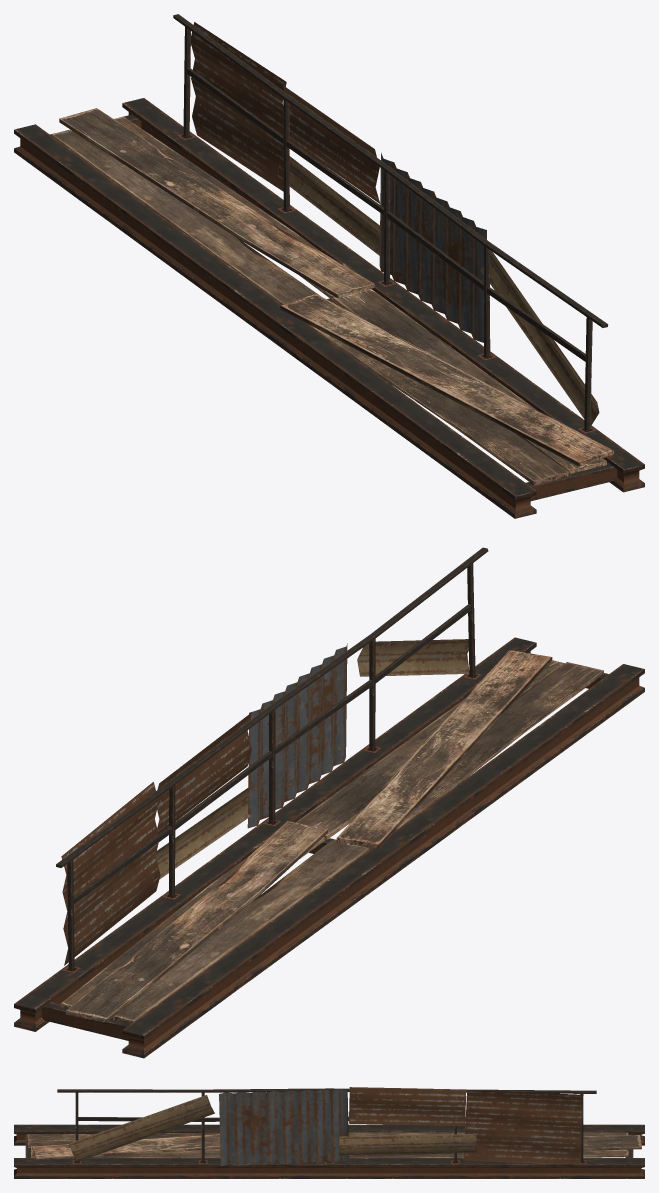
Rendered from spheretank_walkway_c.glb.
The picture shows the model from 3 angles, top to bottom: view 1: azimuth 30°, elevation 25°; view 2: azimuth 150°, elevation 25°; view 3: azimuth 270°, elevation 25°; orthographic projection. The views are drawn at different scales.
Visible parts, largest first — view 1: spheretank_walkway_c_LOD0; view 2: spheretank_walkway_c_LOD0; view 3: spheretank_walkway_c_LOD0.
Part boxes in pixels (left/top/right/bottom): spheretank_walkway_c_LOD0: left=14, top=14, right=644, bottom=518; spheretank_walkway_c_LOD0: left=14, top=547, right=644, bottom=1058; spheretank_walkway_c_LOD0: left=14, top=1087, right=644, bottom=1178.
Size of the model in its own units: 1.56 by 1.58 by 10.
4 materials, 4 textured.
